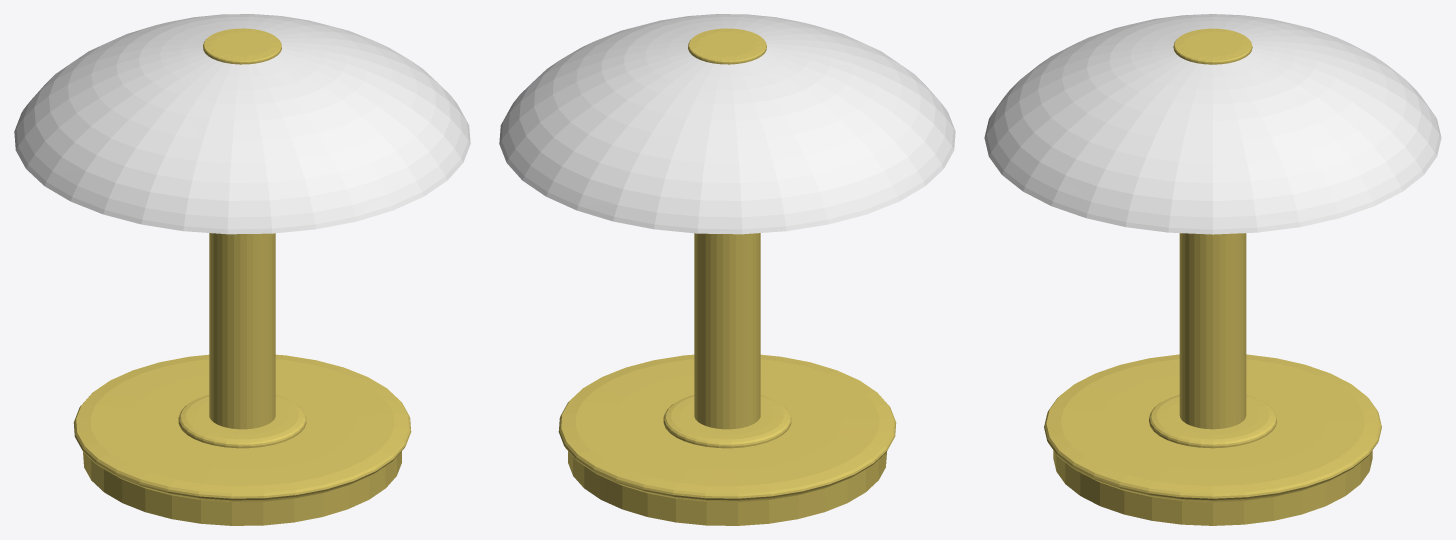
The model's file is sh-bs0-desklamp.glb.
3 views of the same model, side by side, from view 1: azimuth 30°, elevation 25°; view 2: azimuth 150°, elevation 25°; view 3: azimuth 270°, elevation 25° (orthographic).
Visible parts, largest first — view 1: Cylinder.001; view 2: Cylinder.001; view 3: Cylinder.001.
Part boxes in pixels (x1,y1,x2,y2): Cylinder.001: (14,14,470,525); Cylinder.001: (499,14,955,525); Cylinder.001: (984,14,1441,525).
Size of the model in its own units: 1 by 1 by 1.
